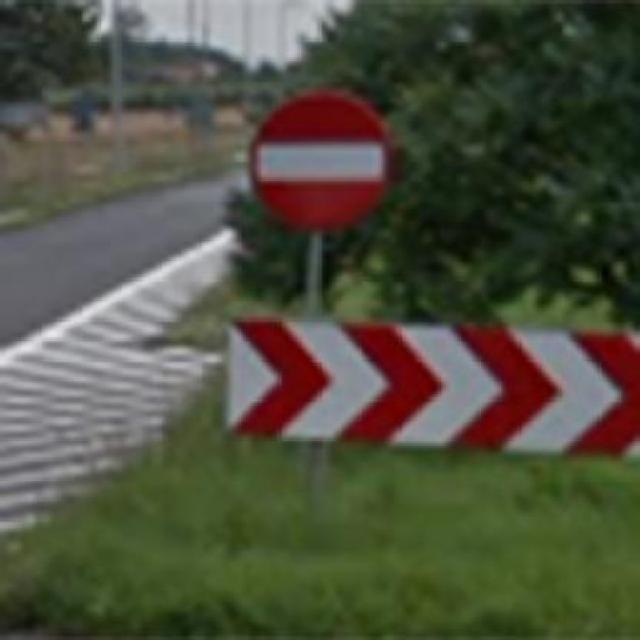Zakaz wjazdu: (249, 90, 393, 236)
